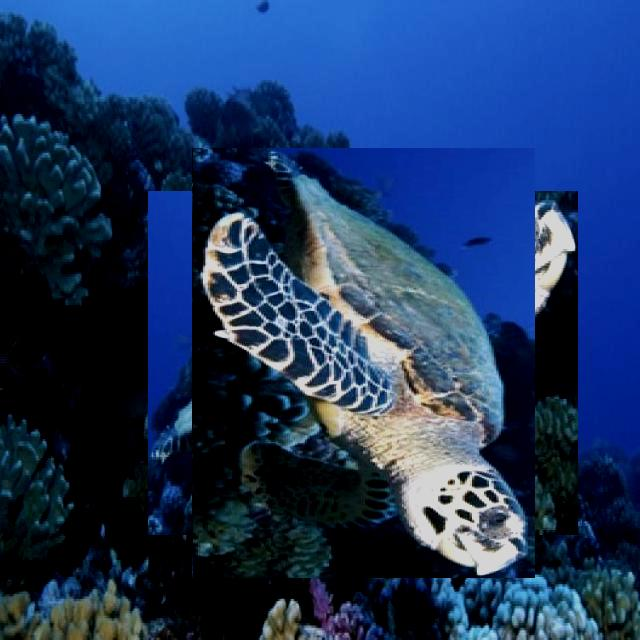Sea turtle: (169, 170, 556, 557)
